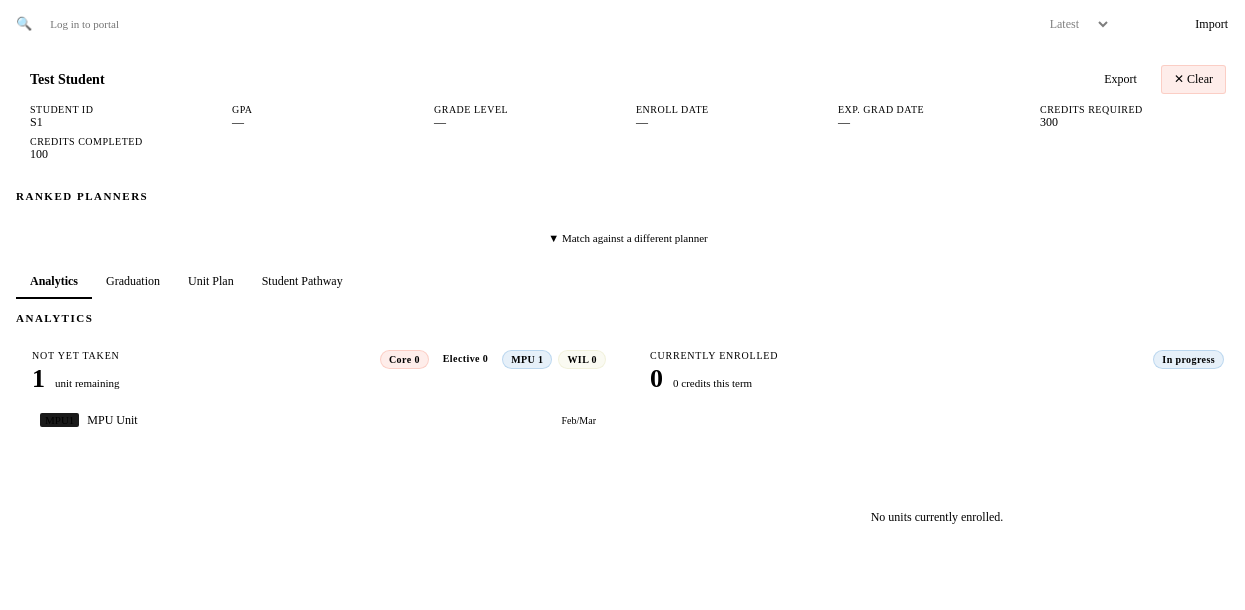
Test: Graduation Check: per-category credit bars › all four _cp fields null: falls back to the original single combined bar
This screenshot has width=1245, height=610.
Click the tab "Graduation" at [133, 282], box 92,266 -> 174,299
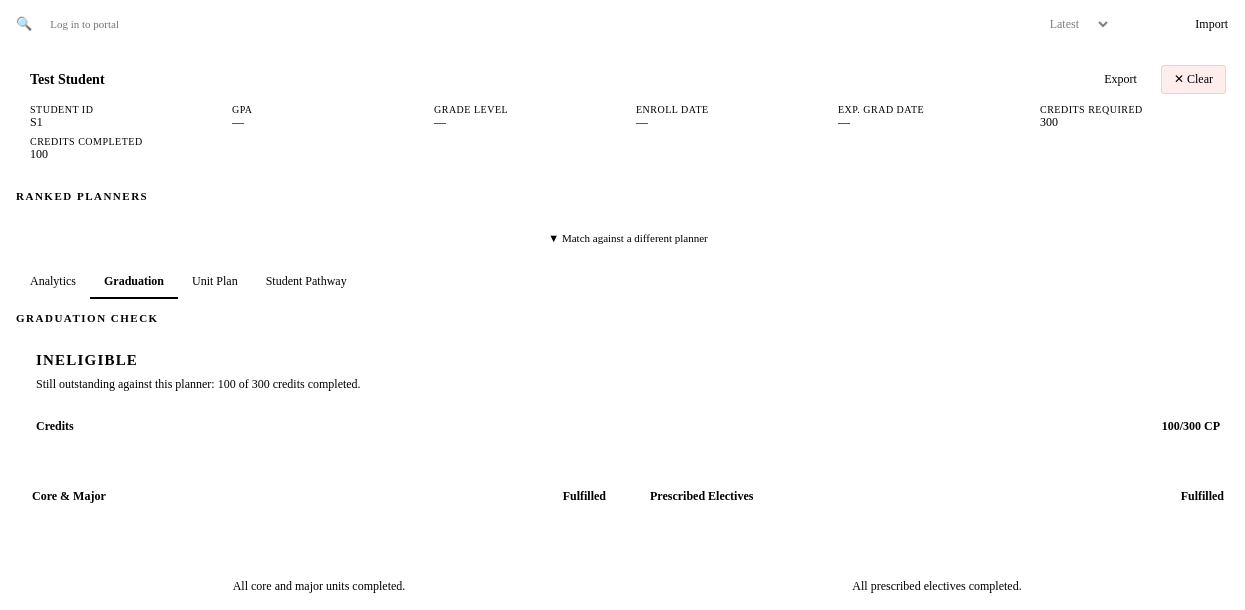
Now the text "Credits" is shown, box 36,419 -> 74,434
Now the text "100/300 CP" is shown, box 1162,419 -> 1220,434
